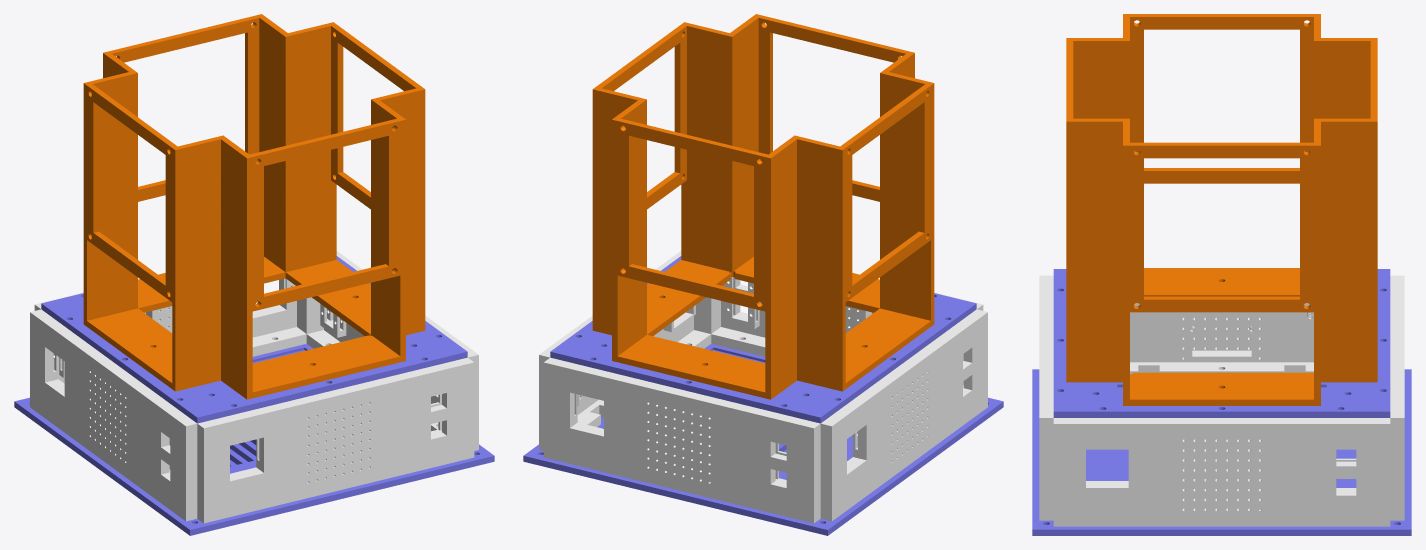
File: Modelo_Carcasa_Completo.glb
3 views of the same model, side by side, from view 1: azimuth 30°, elevation 25°; view 2: azimuth 150°, elevation 25°; view 3: azimuth 270°, elevation 25° (orthographic). The views are drawn at different scales.
Parts seen in each view (by area): view 1: Sólido1 (×7); view 2: Sólido1 (×7); view 3: Sólido1 (×7).
Boxes of the visible parts, box(x1,y1,x2,y2) form: Sólido1 (×7): box(14, 14, 494, 535); Sólido1 (×7): box(523, 14, 1003, 535); Sólido1 (×7): box(1032, 14, 1411, 535).
Bounding box in the file's own units: 0.268 × 0.298 × 0.268.
